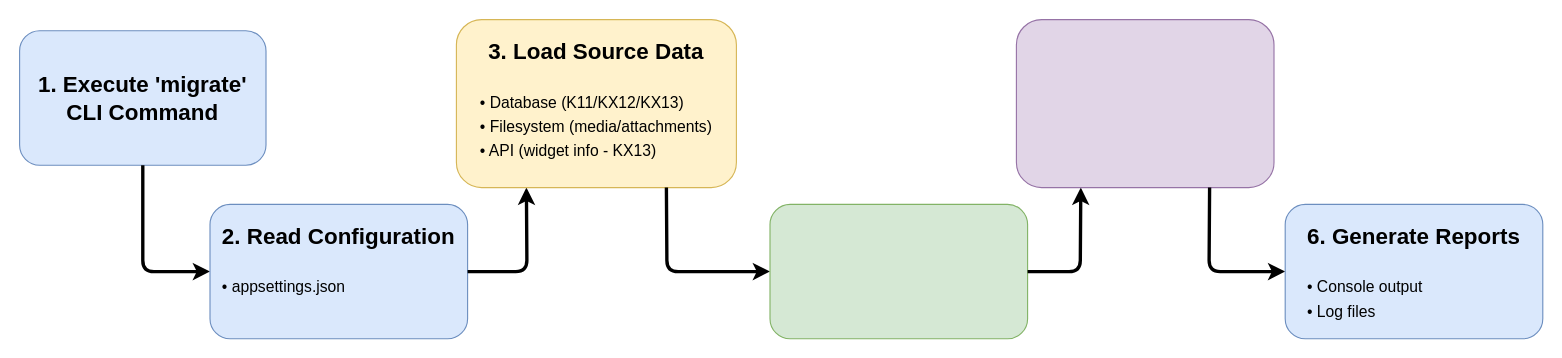
Image size: 1562x358. Some labels were removed from this diagram. The shapes that lost their labels are listed below. From the top down, each one's box as (x1, y1, x2, y2) in pixels, then its label:
(1015, 18, 1274, 188): 5. Write to Target • Universal Migration Tool • XbyK API • Bulk SQL copy
(769, 203, 1028, 339): 4. Transform Data • Built-in mappers • Custom migrations
